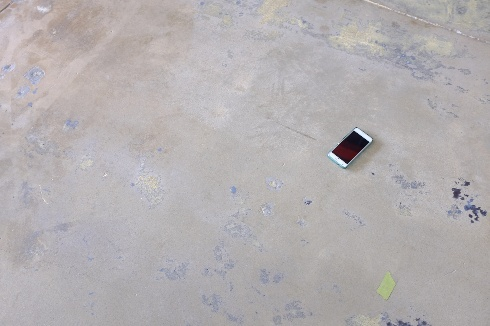phone: (326, 131, 375, 163)
